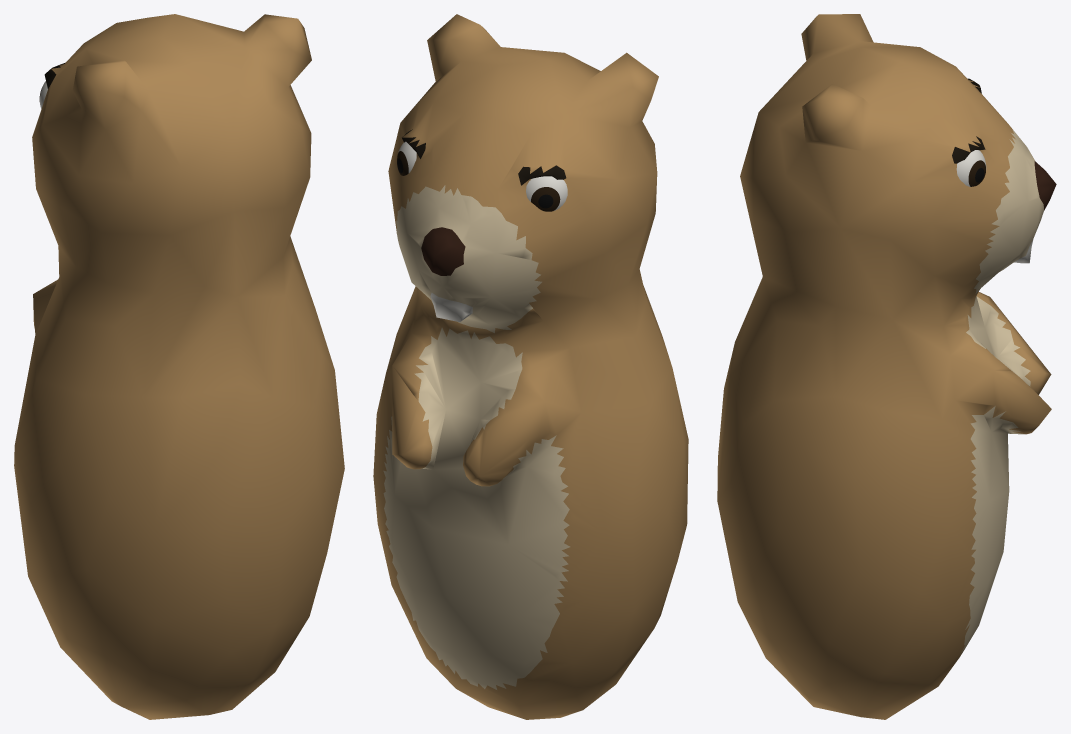
The model's file is prairie-dog.glb.
3 views of the same model, side by side, from view 1: azimuth 30°, elevation 25°; view 2: azimuth 150°, elevation 25°; view 3: azimuth 270°, elevation 25° (orthographic). The views are drawn at different scales.
Visible parts, largest first — view 1: body_lod0; view 2: body_lod0; view 3: body_lod0.
Part boxes in pixels (x1,y1,x2,y2): body_lod0: (14, 14, 344, 719); body_lod0: (373, 14, 688, 719); body_lod0: (717, 14, 1056, 719).
Size of what is drawn, in the model's own units: 0.2411 by 0.5432 by 0.2535.
